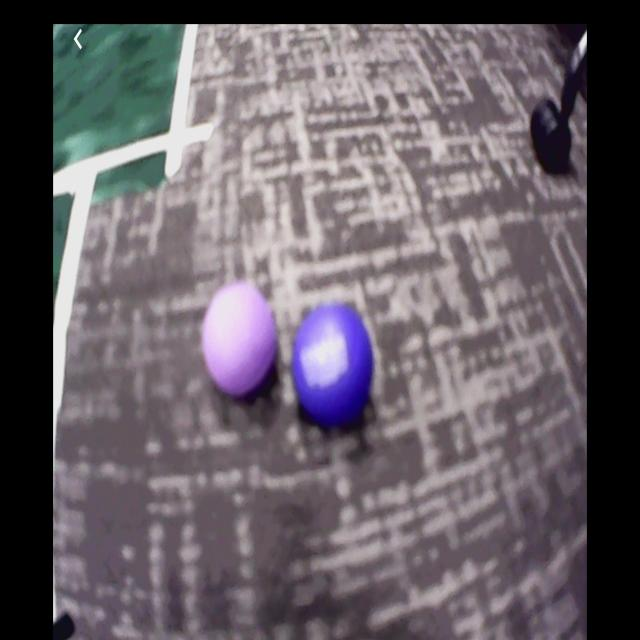ball: (292, 305, 374, 432), (204, 283, 277, 397)
